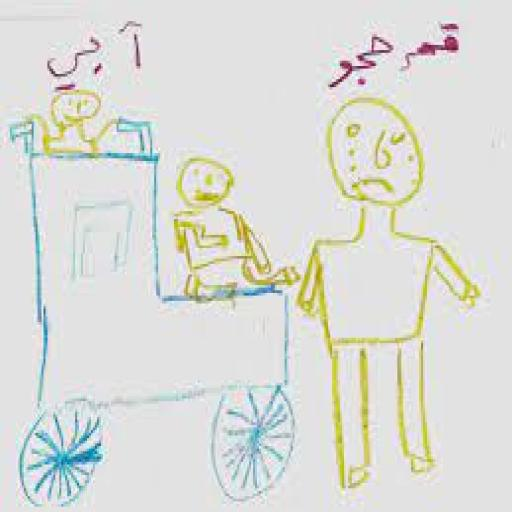person: (296, 90, 484, 491), (169, 152, 299, 308), (33, 81, 115, 169)
